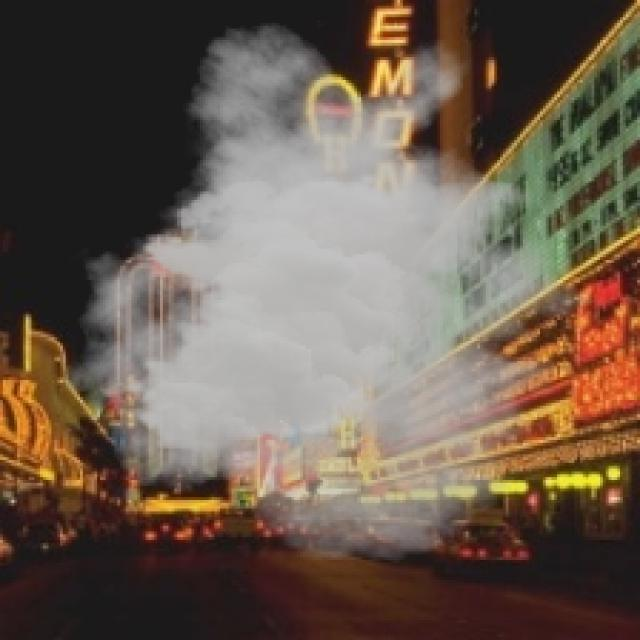Smoke: (62, 20, 618, 563)
